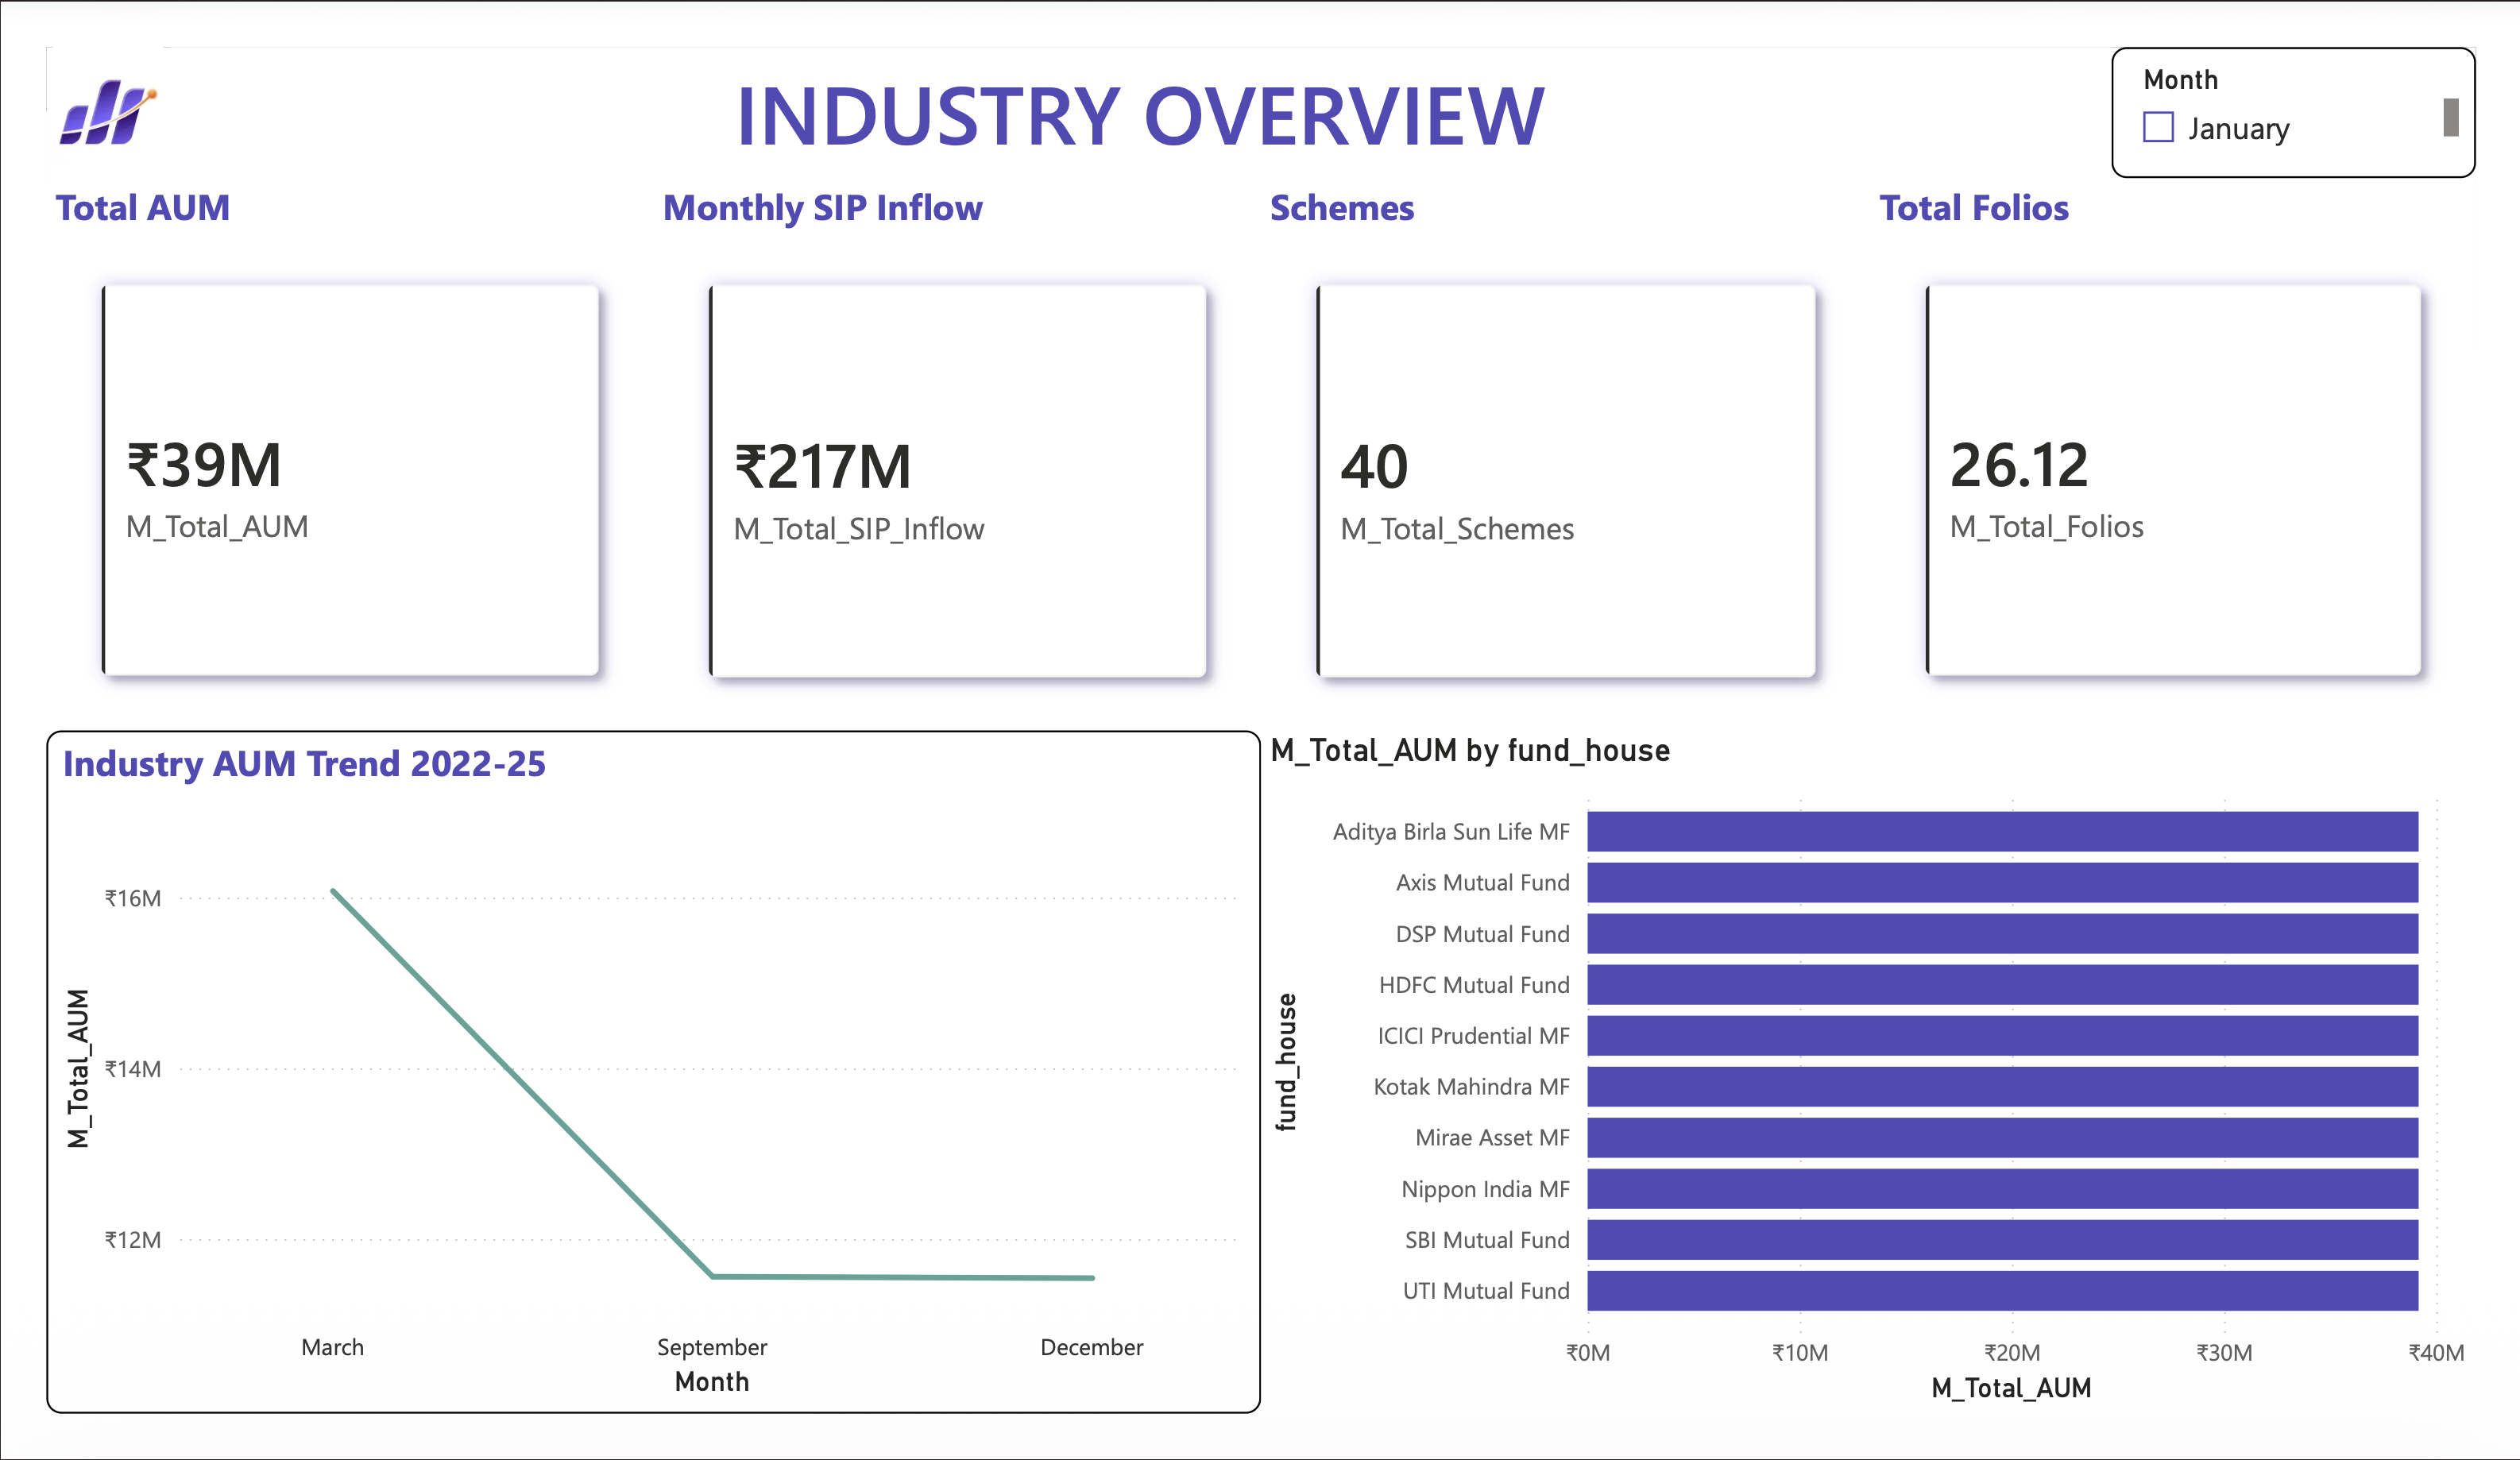

What the dashboard file says about the page in this screenshot:
{"tool":"powerbi","page":{"name":"Industry Overview","canvas":[1280,720],"ordinal":0},"visuals":[{"type":"cardVisual","title":"Total AUM","fields":{"Data":["_Measures.M_Total_AUM"]},"box":[0,70.7,320.2,288.9],"z":0},{"type":"cardVisual","title":"Total Folios","fields":{"Data":["_Measures.M_Total_Folios"]},"box":[960.6,70.7,319.2,288.9],"z":1000},{"type":"cardVisual","title":"Monthly SIP Inflow","fields":{"Data":["_Measures.M_Total_SIP_Inflow"]},"box":[320.2,70.7,320.2,289.9],"z":2000},{"type":"cardVisual","title":"Schemes","fields":{"Data":["_Measures.M_Total_Schemes"]},"box":[640.4,70.7,320.2,289.9],"z":3000},{"type":"lineChart","title":"Industry AUM Trend 2022-25","fields":{"Category":["03_aum_by_fund_house.date.Variation.Date Hierarchy.Month"],"Y":["_Measures.M_Total_AUM"]},"box":[0,359.6,640.4,360.6],"z":4000},{"type":"slicer","fields":{"Values":["03_aum_by_fund_house.date.Variation.Date Hierarchy.Month"]},"box":[1087.9,0,191.9,68.7],"z":5000},{"type":"clusteredBarChart","fields":{"Category":["01_fund_master.fund_house"],"Y":["_Measures.M_Total_AUM"]},"box":[640.4,359.6,639.4,359.6],"z":6000},{"type":"image","box":[0,0,64.6,68.7],"z":7000},{"type":"textbox","box":[64.6,0,1023.2,68.7],"z":8000}]}

Visuals, with their boxes in screenshot pixels (x1, y1, x2, y2), scaled from the page's 1280x720 canvas onto the 2520x1460 screenshot:
"Total AUM" cardVisual: detection(0, 143, 630, 729)
"Total Folios" cardVisual: detection(1891, 143, 2519, 729)
"Monthly SIP Inflow" cardVisual: detection(630, 143, 1261, 732)
"Schemes" cardVisual: detection(1261, 143, 1891, 732)
"Industry AUM Trend 2022-25" lineChart: detection(0, 729, 1261, 1459)
slicer - 03_aum_by_fund_house.date.Variation.Date Hierarchy.Month: detection(2142, 0, 2519, 139)
clusteredBarChart - 01_fund_master.fund_house x _Measures.M_Total_AUM: detection(1261, 729, 2519, 1458)
image: detection(0, 0, 127, 139)
textbox: detection(127, 0, 2142, 139)
